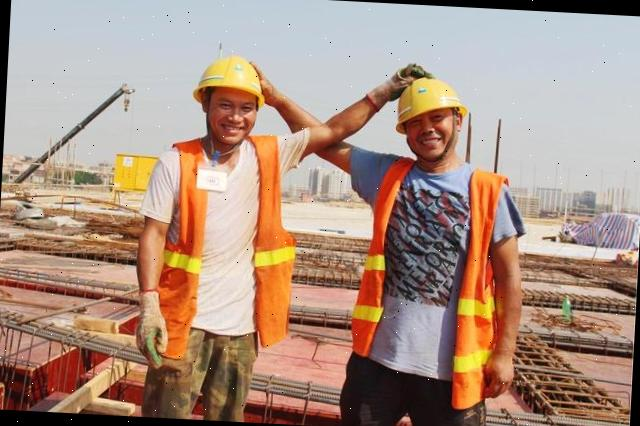helmet: (394, 74, 470, 130), (191, 54, 269, 104)
wear: (352, 167, 511, 388), (140, 137, 300, 336)
